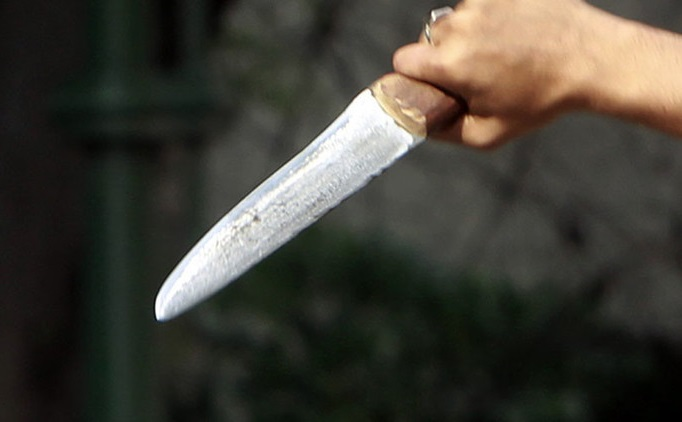knife: (123, 37, 491, 338)
